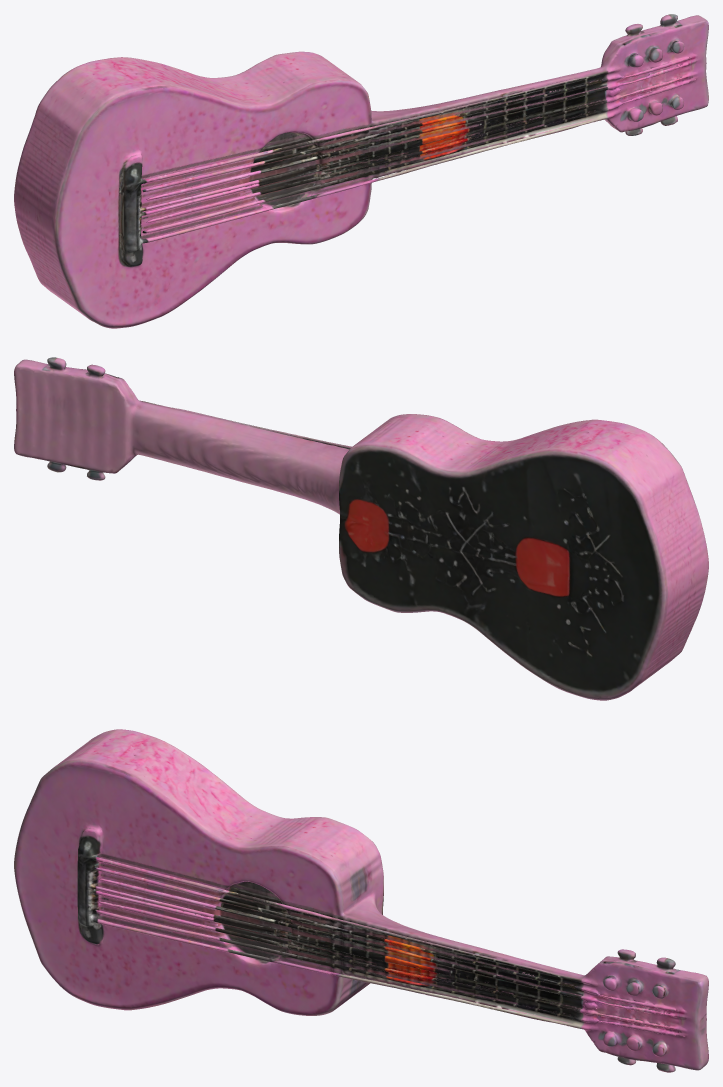
The model's file is guitar.glb.
3 views of the same model, one above another, from view 1: azimuth 30°, elevation 25°; view 2: azimuth 150°, elevation 25°; view 3: azimuth 330°, elevation 25° (orthographic). The views are drawn at different scales.
Bounding box in the file's own units: 2 × 0.6868 × 0.2554.
Materials: 1 (1 with a texture image).
